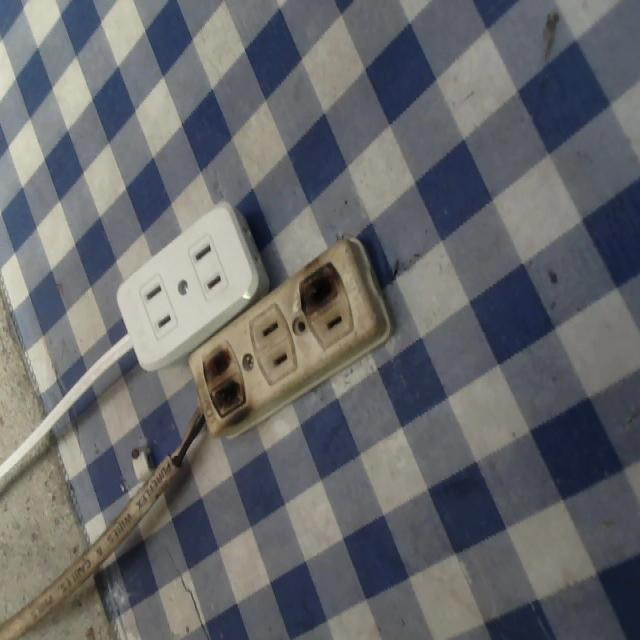-: (195, 338, 252, 426), (291, 257, 345, 311)
